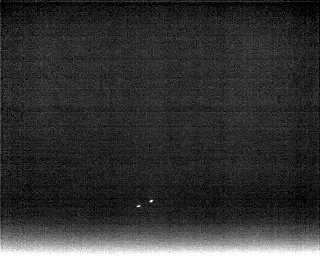BIRD: (147, 196, 155, 206)
